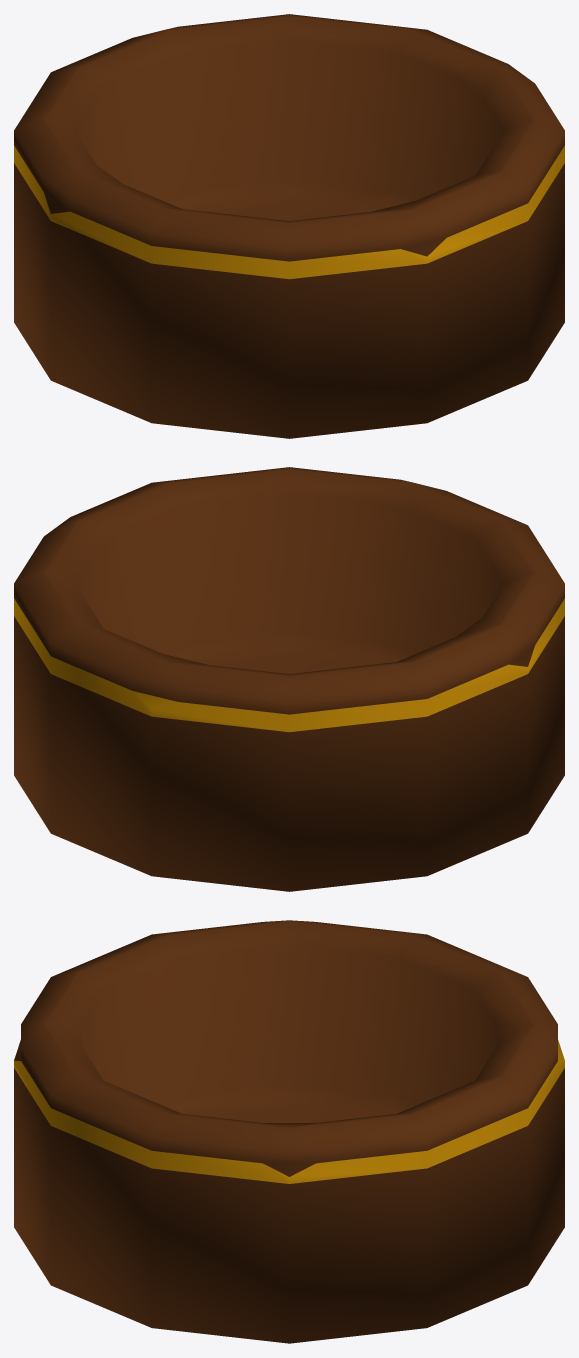
File: WoodCage.fbx
3 views of the same model, one above another, from view 1: azimuth 30°, elevation 25°; view 2: azimuth 150°, elevation 25°; view 3: azimuth 270°, elevation 25° (orthographic).
Visible parts, largest first — view 1: bucket; view 2: bucket; view 3: bucket.
Part boxes in pixels (<box>): bucket: <box>14,14,564,438</box>; bucket: <box>14,467,564,891</box>; bucket: <box>14,920,564,1343</box>.
Bounding box in the file's own units: 472 × 202 × 472.
